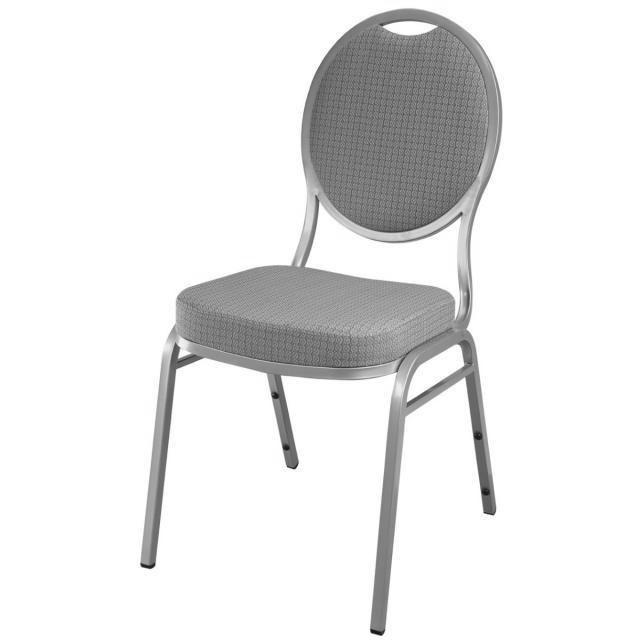chair: (138, 5, 499, 638)
